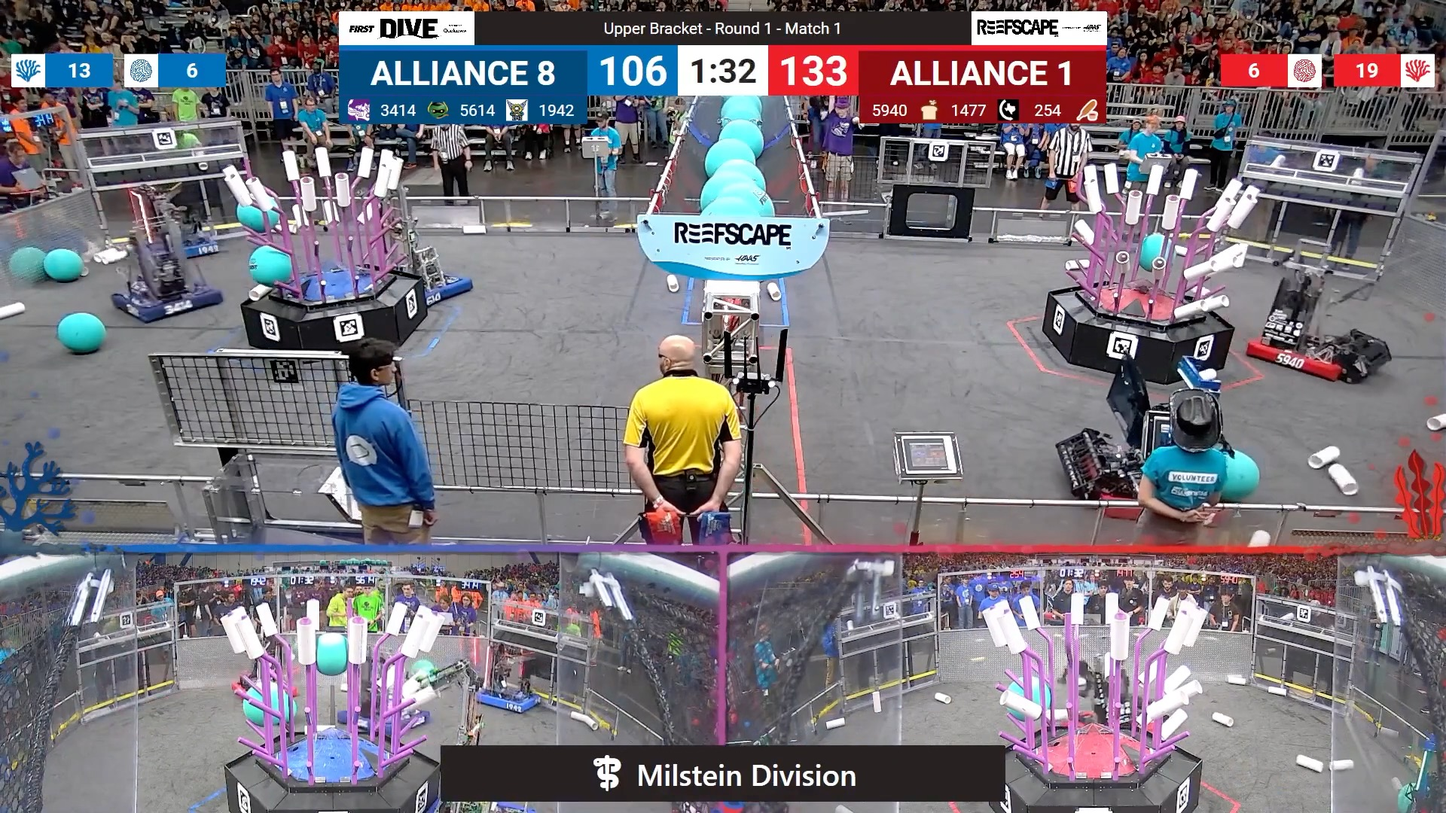bumpers: (1237, 321, 1386, 388), (105, 275, 231, 328), (403, 264, 481, 305), (469, 680, 543, 716), (146, 239, 230, 262)
